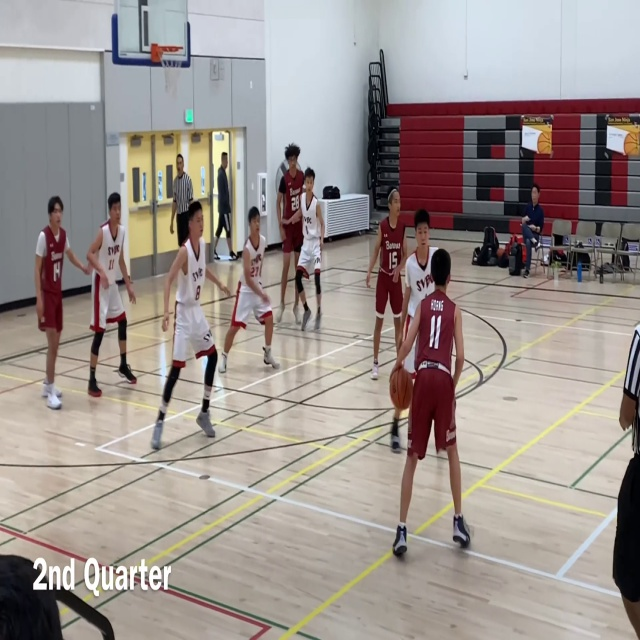Basketball: (389, 367, 413, 410)
